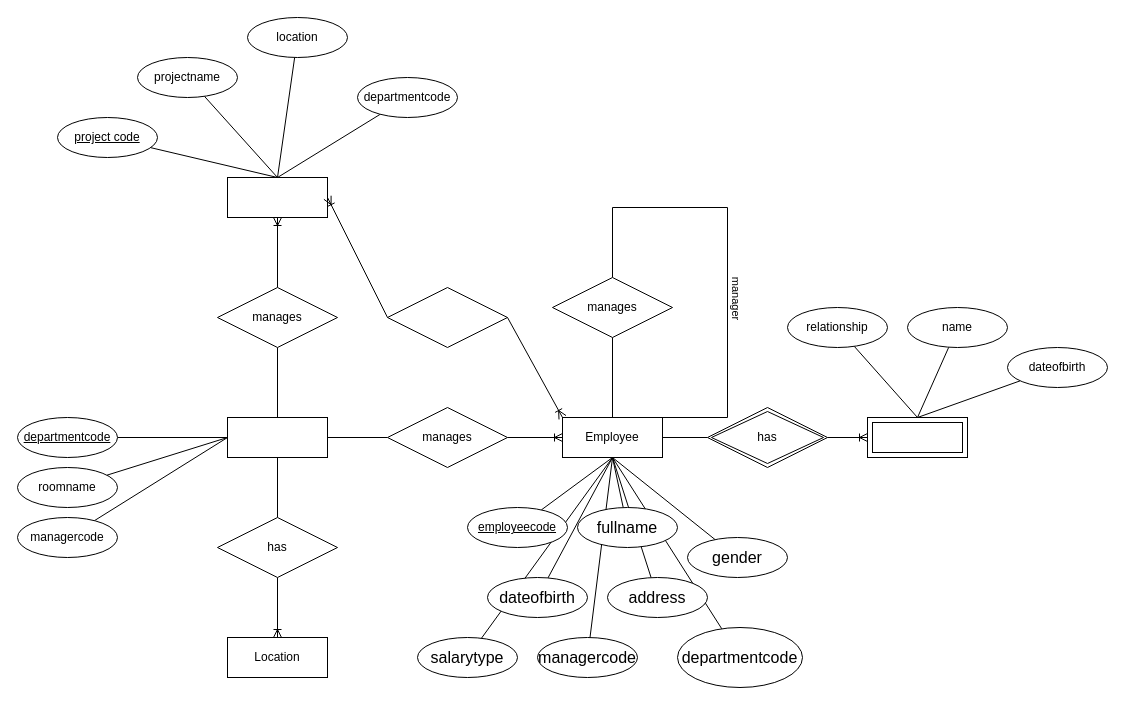
The diagram is 1125 pixels wide and 705 high, and some of its shapes have lost their labels. The centre of each missing label's shape, as x and y in pixels:
Department: point (277, 437)
participates in: point (447, 317)
Project: point (277, 197)
Relative: point (917, 437)
